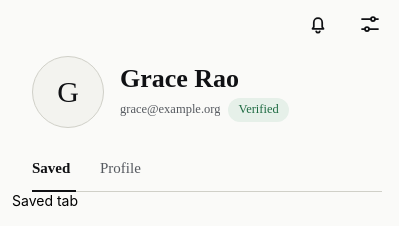
Test: the two tabs › switches between them on a tap, and mounts only the one in view
Click the tab with test id "you-tabs-profile".
click(120, 168)  # box x1=100 y1=160 x2=141 y2=176
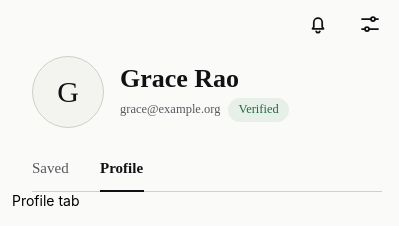
expect the text "Profile tab" is shown: met, box x1=12 y1=192 x2=80 y2=209
expect the text with test id "saved-tab-stub" is gone: met
Click the tab with test id "you-tabs-saved".
click(50, 168)  # box x1=32 y1=160 x2=69 y2=176
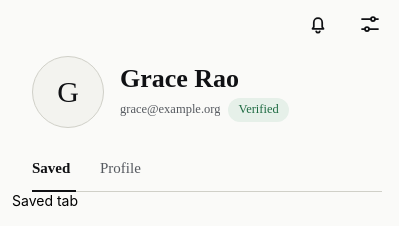
expect the text "Saved tab" is shown: met, box x1=12 y1=192 x2=78 y2=209
expect the text with test id "profile-tab-stub" is gone: met
